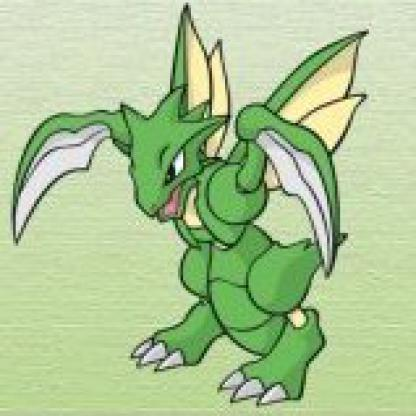Scyther: (7, 10, 387, 410)
